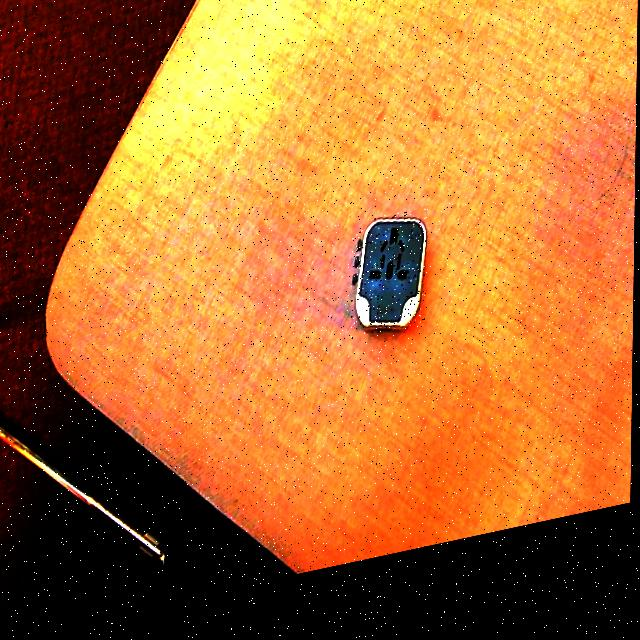adapter: (352, 225, 427, 356)
